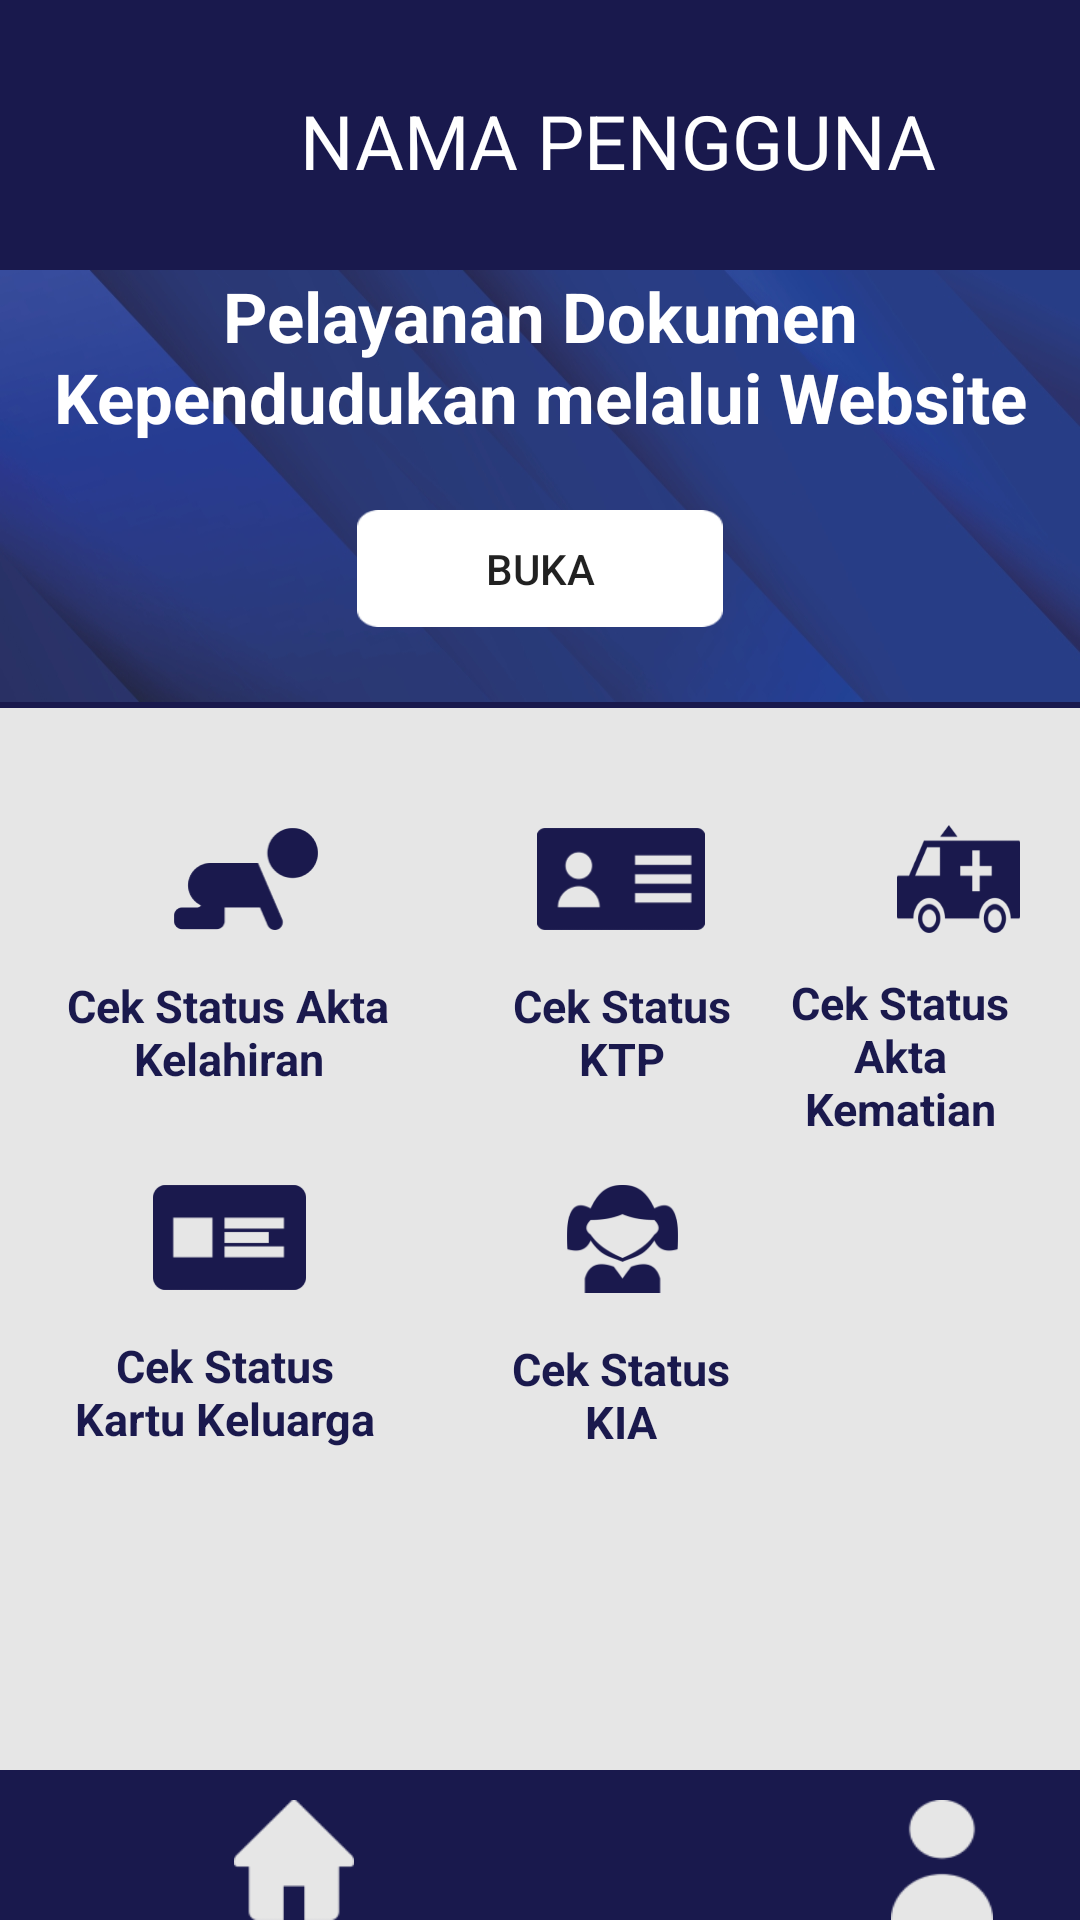

Icon click points for this 1080 x 1920 phone screenshot, format [x,y]:
home: [294,1860]
orang: [942,1860]
